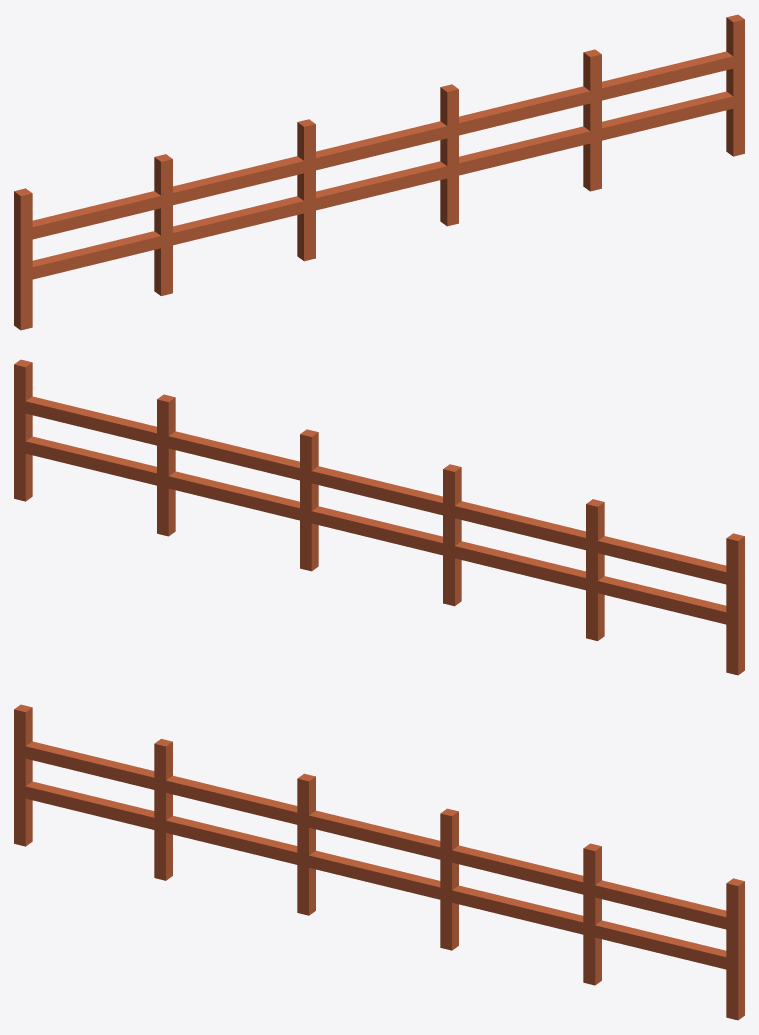
File: fence_1.glb
3 renders of one model, top to bottom at view 1: azimuth 30°, elevation 25°; view 2: azimuth 150°, elevation 25°; view 3: azimuth 330°, elevation 25°, orthographic.
Parts seen in each view (by area): view 1: Cube, Cube.001; view 2: Cube, Cube.001; view 3: Cube, Cube.001.
Boxes of the visible parts, x1,y1,x2,y2 form: Cube: [29, 14, 744, 295]; Cube.001: [14, 188, 32, 330]; Cube: [14, 359, 729, 640]; Cube.001: [726, 533, 744, 675]; Cube: [23, 739, 744, 1020]; Cube.001: [14, 704, 32, 846].
Bounding box in the file's own units: 5.13 × 0.9097 × 0.0832.
Materials: 1 (1 with a texture image).
